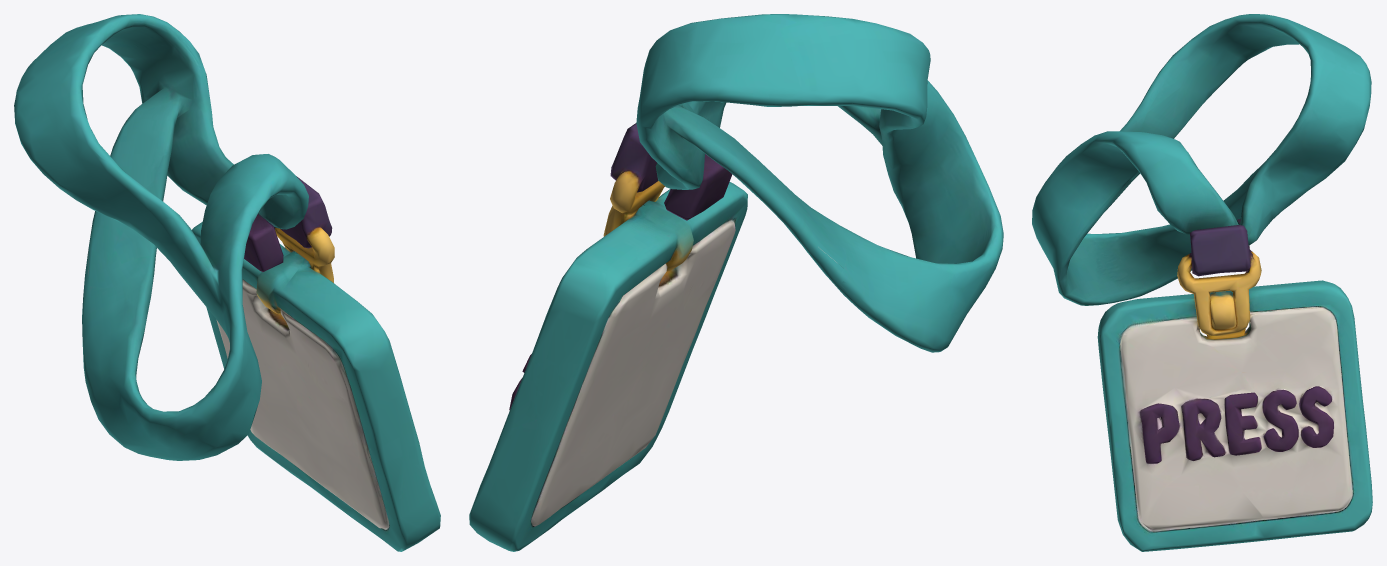
Rendered from powerup-press-pass.glb.
The picture shows the model from 3 angles, left to right: view 1: azimuth 30°, elevation 25°; view 2: azimuth 150°, elevation 25°; view 3: azimuth 270°, elevation 25°; orthographic projection. The views are drawn at different scales.
Parts seen in each view (by area): view 1: tripo_node_6cc80743-39b3-436f-bc8f-26f0dfaa92f9; view 2: tripo_node_6cc80743-39b3-436f-bc8f-26f0dfaa92f9; view 3: tripo_node_6cc80743-39b3-436f-bc8f-26f0dfaa92f9.
Part boxes in pixels (box(x1,y1,x2,y2)): tripo_node_6cc80743-39b3-436f-bc8f-26f0dfaa92f9: box(14, 14, 440, 551); tripo_node_6cc80743-39b3-436f-bc8f-26f0dfaa92f9: box(469, 14, 1003, 551); tripo_node_6cc80743-39b3-436f-bc8f-26f0dfaa92f9: box(1032, 14, 1372, 551).
Bounding box in the file's own units: 0.7113 × 1 × 0.7088.
1 material, 1 textured.
